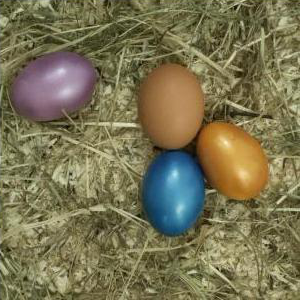egg: (11, 51, 96, 121), (138, 62, 206, 149), (197, 120, 269, 201), (143, 151, 206, 237)
